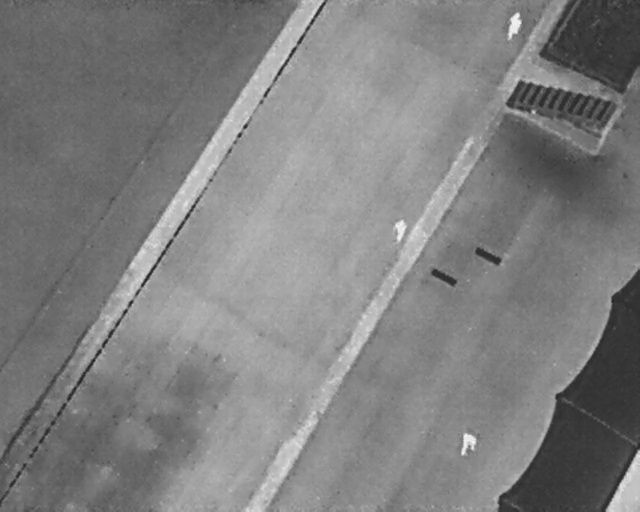Person: (503, 10, 524, 43), (392, 217, 407, 243), (462, 431, 477, 456)
